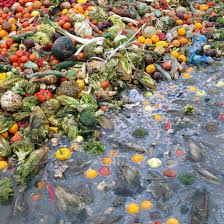garbage: (1, 1, 224, 222)
